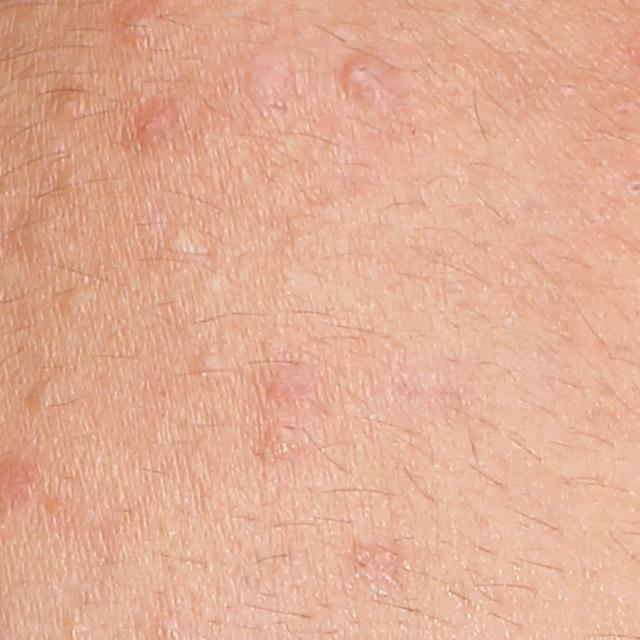comedo: (8, 212, 68, 252), (191, 347, 238, 386), (23, 377, 68, 413), (159, 220, 196, 256), (55, 87, 89, 116), (58, 288, 93, 315), (348, 56, 379, 85)
